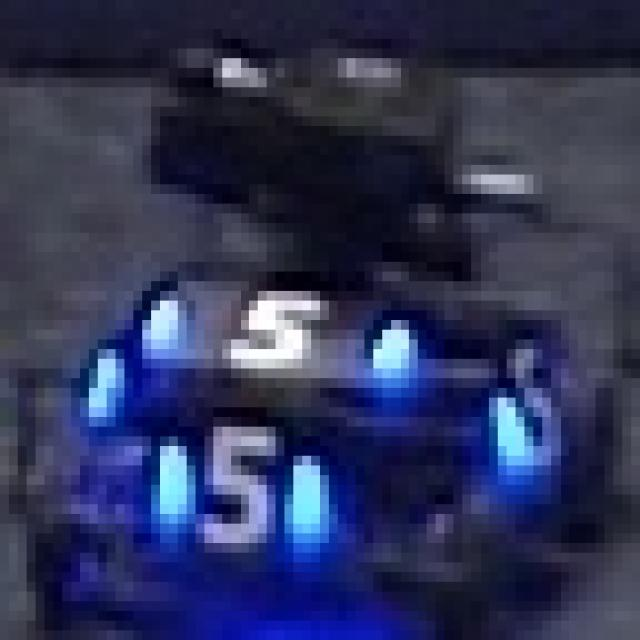B5: (133, 262, 418, 388), (133, 407, 338, 553), (471, 310, 587, 466)
